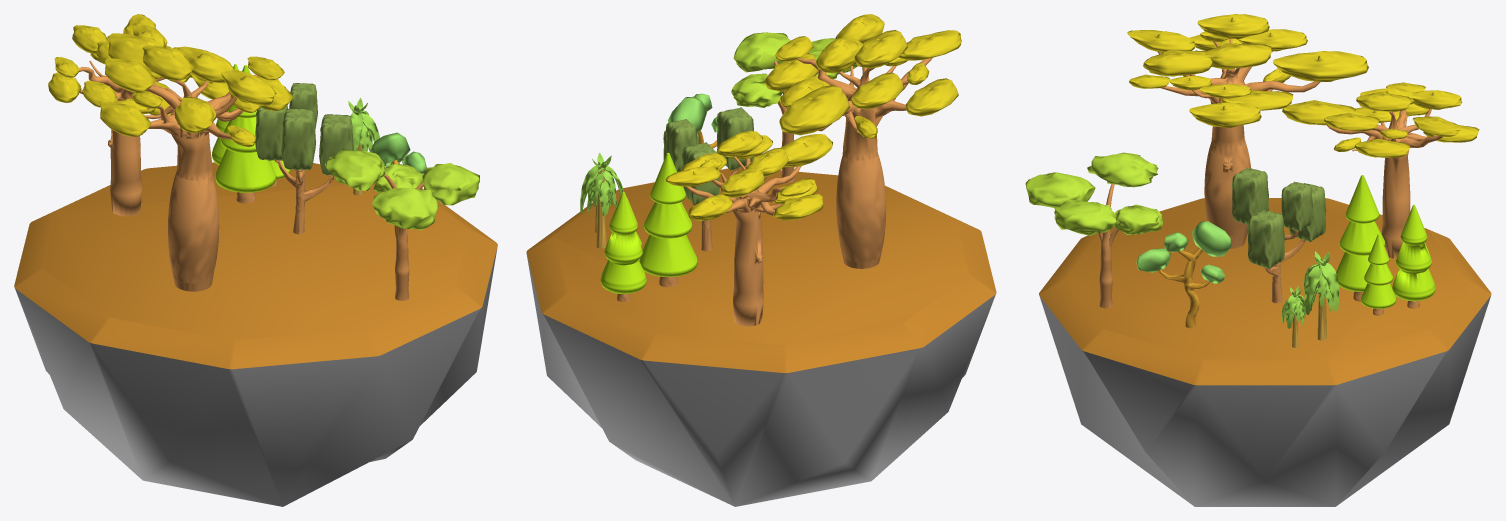
The model's file is Forest.fbx.
The picture shows the model from 3 angles, left to right: view 1: azimuth 30°, elevation 25°; view 2: azimuth 150°, elevation 25°; view 3: azimuth 270°, elevation 25°; orthographic projection. The views are drawn at different scales.
Parts seen in each view (by area): view 1: Low Poly Trees; view 2: Low Poly Trees; view 3: Low Poly Trees.
Part boxes in pixels (<box>): Low Poly Trees: <box>14,14,497,506</box>; Low Poly Trees: <box>526,14,996,506</box>; Low Poly Trees: <box>1025,14,1491,506</box>.
Size of the model in its own units: 3723 by 4125 by 4020.
